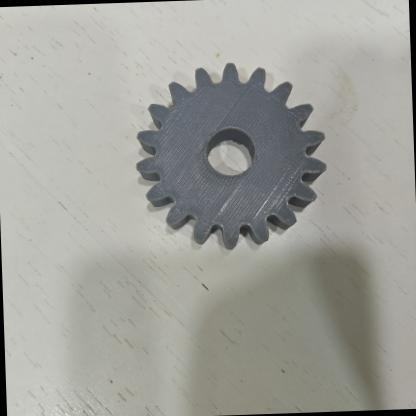gear: (111, 46, 350, 268)
